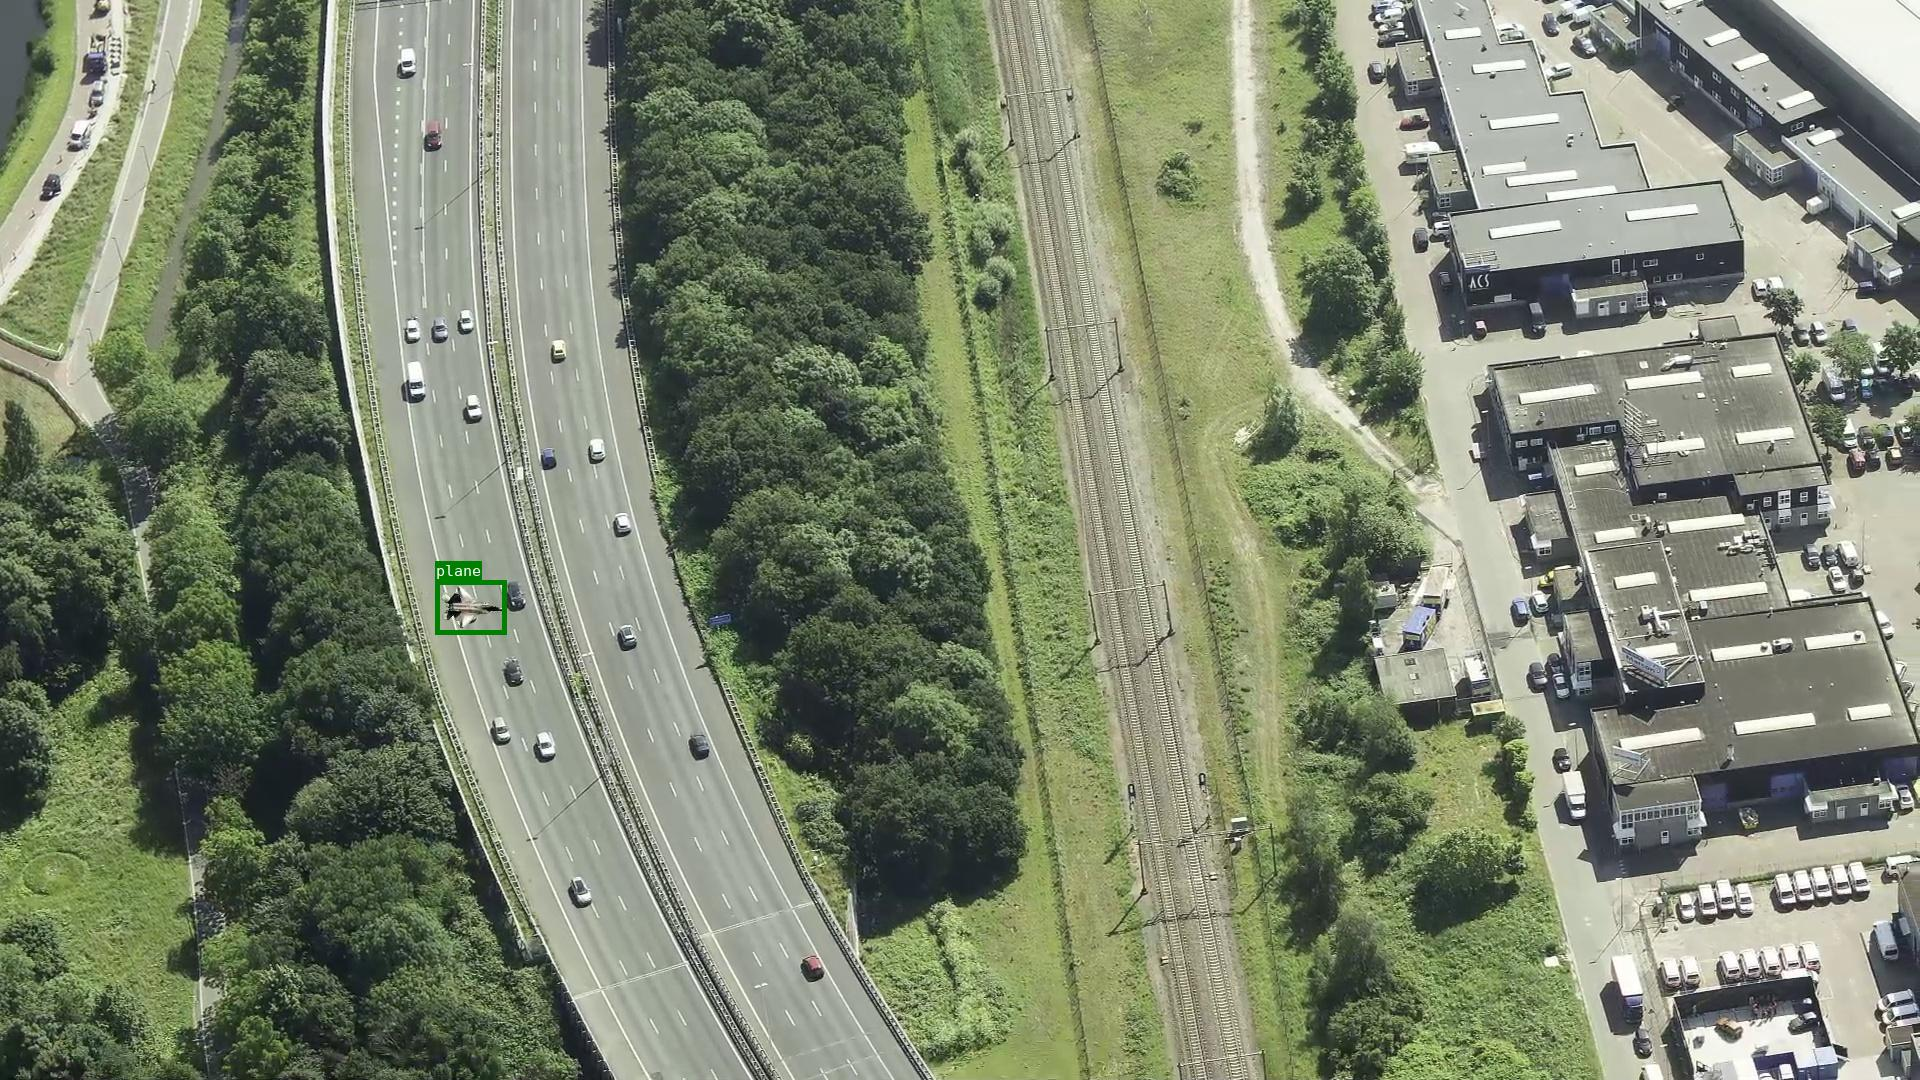plane: (435, 580, 506, 634)
